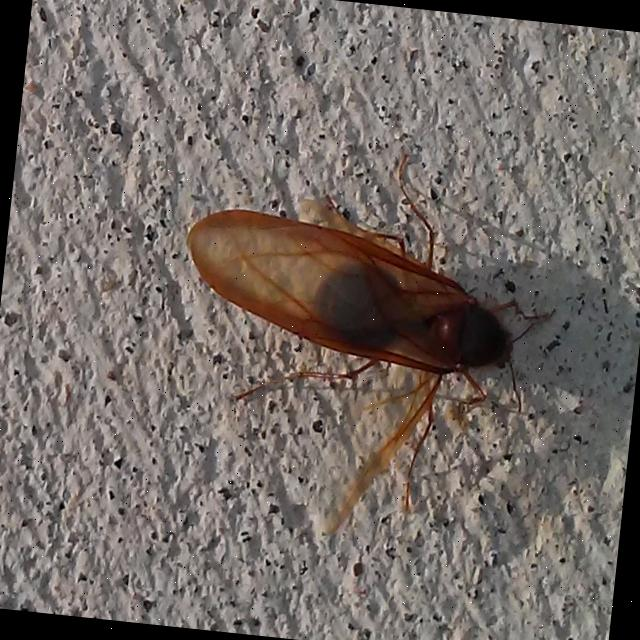Alive-Male-Alate: (156, 130, 570, 558)
